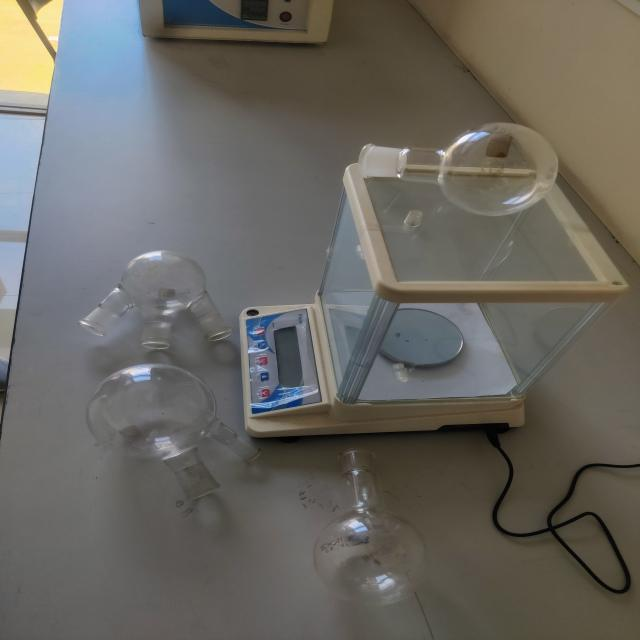Round_Bottom_Flask_Borosilicate_Glass_1_Neck: (301, 421, 439, 619)
Round_Bottom_Flask_Borosilicate_Glass_2_Neck: (60, 346, 278, 515)
Round_Bottom_Flask_Borosilicate_Glass_3_Neck: (62, 205, 280, 353)
